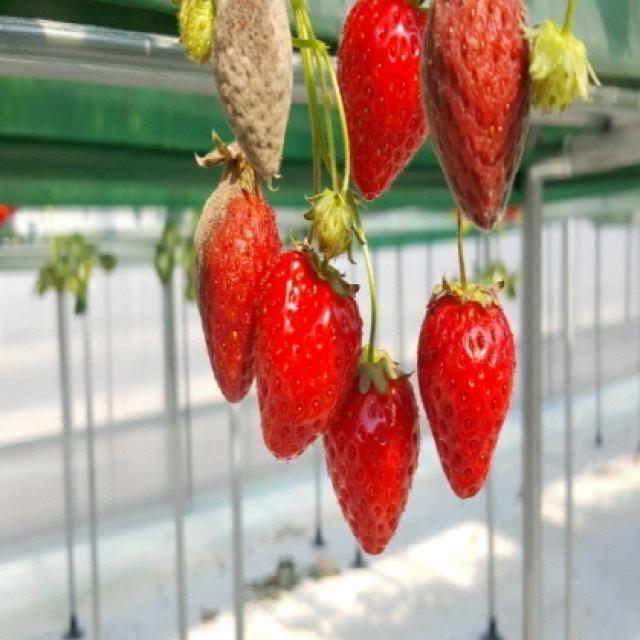Gray Mold: (211, 0, 295, 193), (193, 129, 262, 325)
